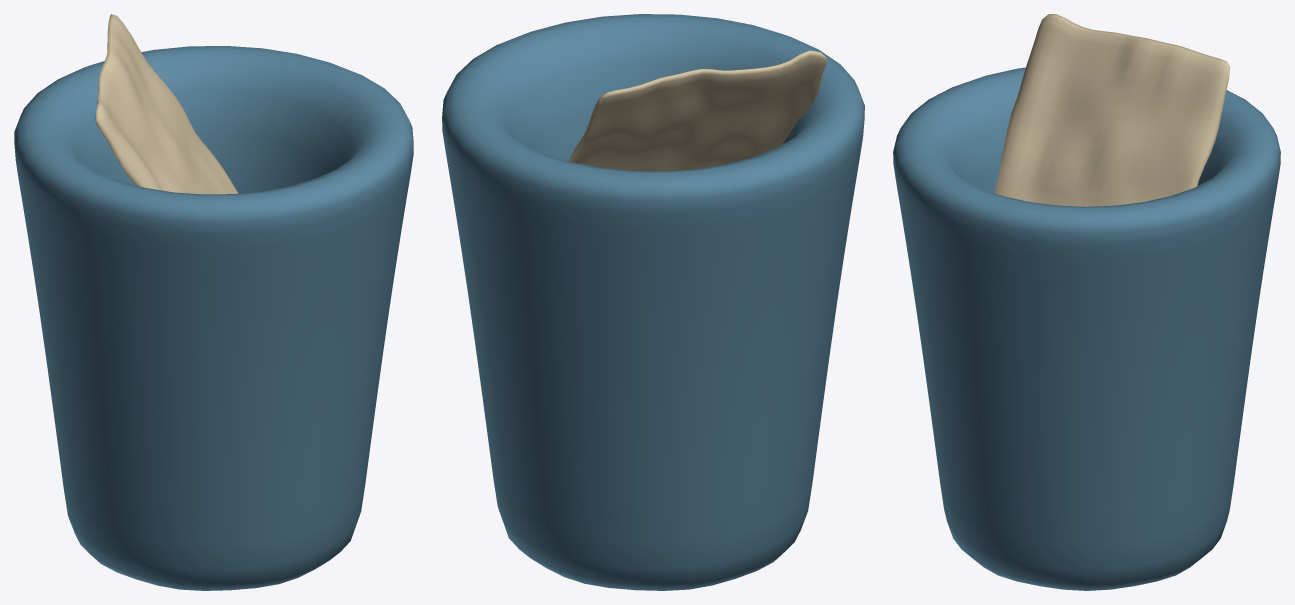
The model's file is bin with paper.glb.
3 views of the same model, side by side, from view 1: azimuth 30°, elevation 25°; view 2: azimuth 150°, elevation 25°; view 3: azimuth 270°, elevation 25° (orthographic). The views are drawn at different scales.
Parts seen in each view (by area): view 1: bin, Plane.003; view 2: bin, Plane.003; view 3: bin, Plane.003.
Part boxes in pixels (<box>): bin: <box>14,46,413,590</box>; Plane.003: <box>95,14,238,194</box>; bin: <box>442,14,864,590</box>; Plane.003: <box>569,50,826,171</box>; bin: <box>893,67,1280,590</box>; Plane.003: <box>995,14,1230,206</box>.
Size of the model in its own units: 0.2194 by 0.2978 by 0.2194.
